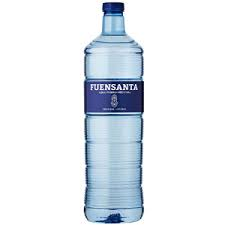Botella: (85, 3, 143, 221)
